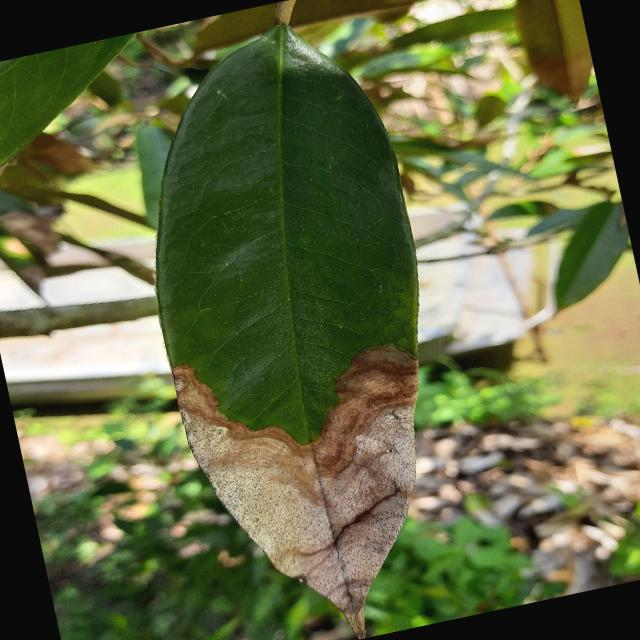Leaf Blight: (94, 0, 505, 639)
